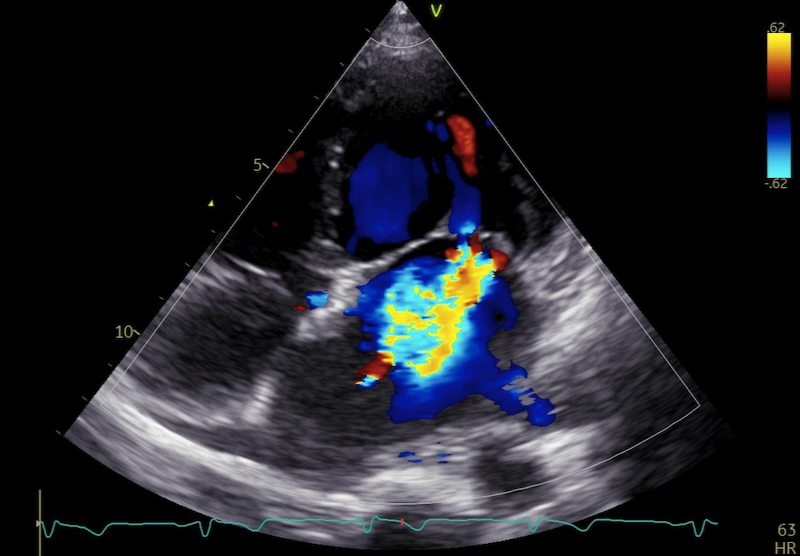MR: (344, 209, 516, 320)
